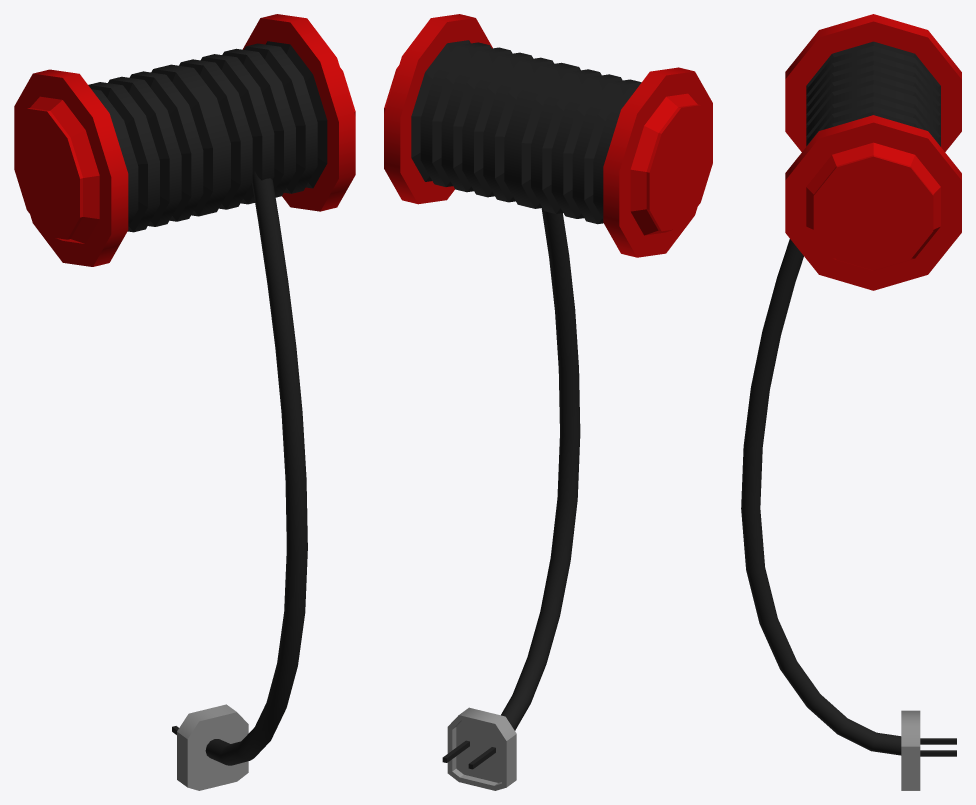
The model's file is SM_cabledrum_01.fbx.
The picture shows the model from 3 angles, left to right: view 1: azimuth 30°, elevation 25°; view 2: azimuth 150°, elevation 25°; view 3: azimuth 270°, elevation 25°; orthographic projection. The views are drawn at different scales.
Parts seen in each view (by area): view 1: cabledrum_01; view 2: cabledrum_01; view 3: cabledrum_01.
Boxes of the visible parts, box(x1,y1,x2,y2) form: cabledrum_01: box(14, 14, 355, 790); cabledrum_01: box(384, 14, 712, 790); cabledrum_01: box(741, 14, 961, 790).
Size of the model in its own units: 71.87 by 190 by 54.76.
